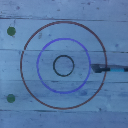Axe Tip: (90, 65, 101, 68)
